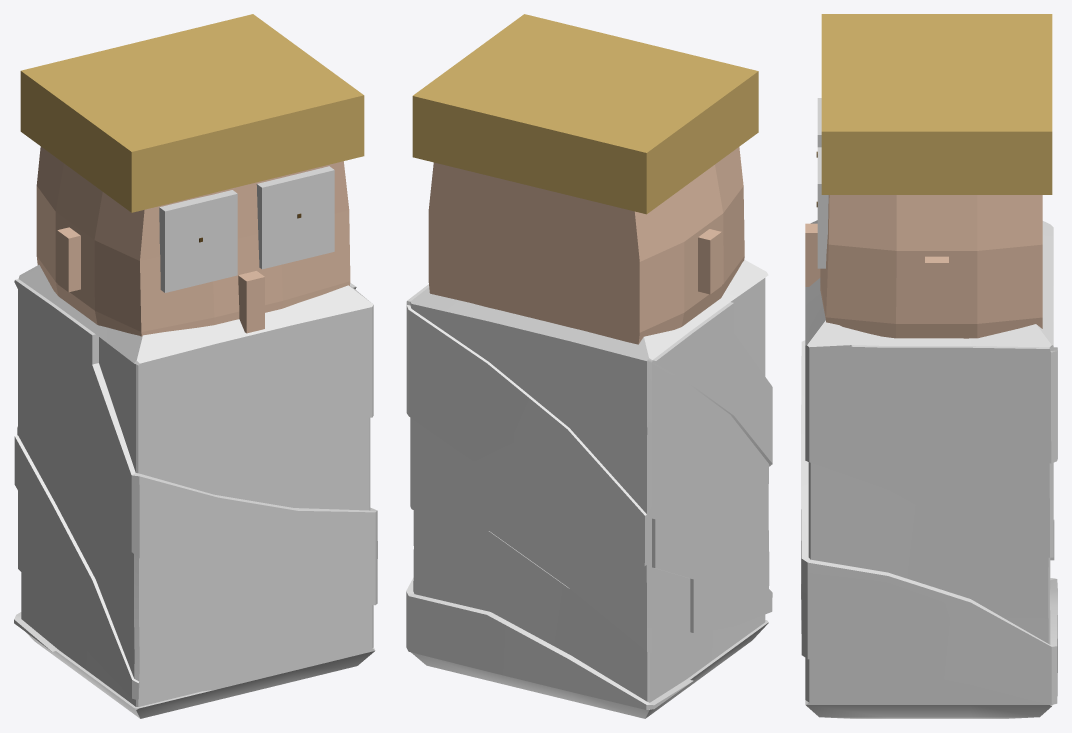
File: bebisfbx.fbx
The picture shows the model from 3 angles, left to right: view 1: azimuth 30°, elevation 25°; view 2: azimuth 150°, elevation 25°; view 3: azimuth 270°, elevation 25°; orthographic projection. The views are drawn at different scales.
Visible parts, largest first — view 1: pCube3, pCube2; view 2: pCube3, pCube2; view 3: pCube3, pCube2.
Part boxes in pixels (left/top/right/bottom): pCube3: left=14, top=265, right=377, bottom=718; pCube2: left=20, top=14, right=364, bottom=336; pCube3: left=406, top=259, right=772, bottom=718; pCube2: left=412, top=14, right=758, bottom=344; pCube3: left=801, top=220, right=1057, bottom=718; pCube2: left=805, top=14, right=1052, bottom=338.
Size of the model in its own units: 10.57 by 22.76 by 8.75.
